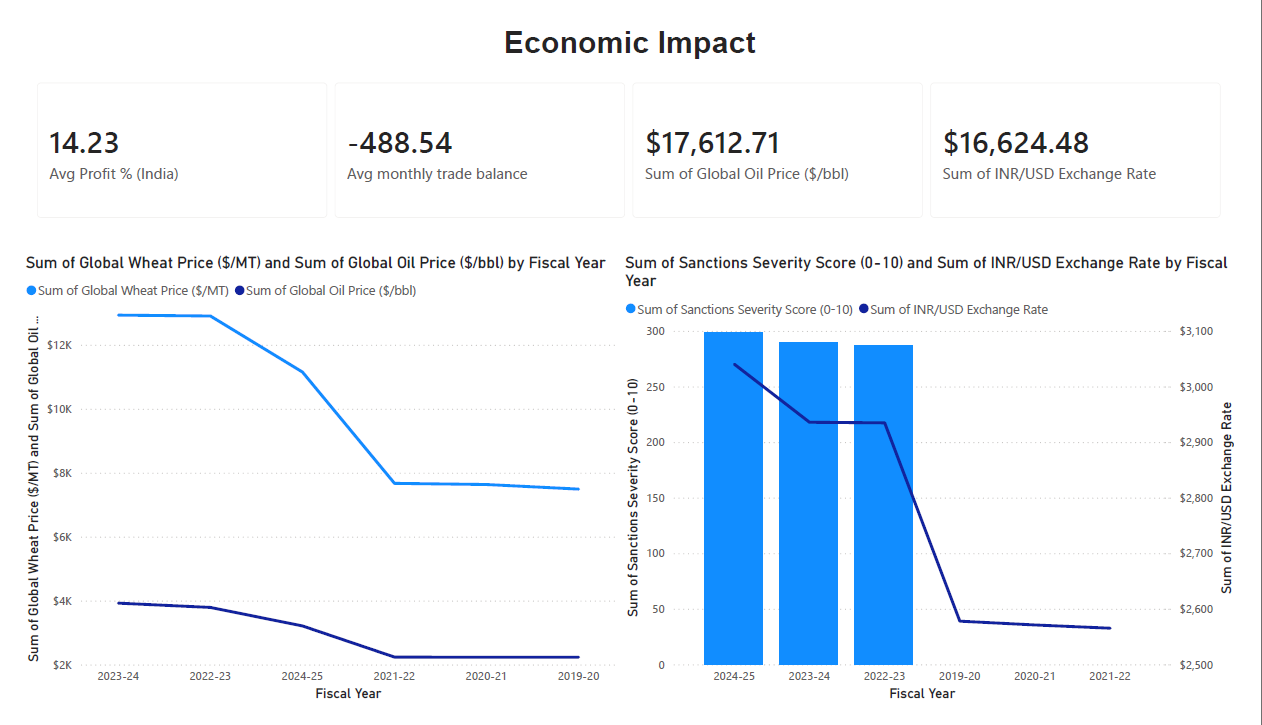

The page's visual inventory and layout, read from the dashboard file:
{"tool":"powerbi","page":{"name":"Economic Impact","canvas":[1280,720],"ordinal":1},"visuals":[{"type":"textbox","box":[0,0,1280.3,47.6],"z":0},{"type":"cardVisual","fields":{"Data":["Trade Dataset.Avg Profit % (India)","Trade Dataset.Avg monthly trade balance","Sum(Trade Dataset.Global Oil Price ($/bbl))","Sum(Trade Dataset.INR/USD Exchange Rate)"]},"box":[0,47.6,1280.3,176.1],"z":1000},{"type":"lineChart","fields":{"Y":["Sum(Trade Dataset.Global Wheat Price ($/MT))","Sum(Trade Dataset.Global Oil Price ($/bbl))"],"Category":["Trade Dataset.Fiscal Year"]},"box":[0,244.2,629.8,475.6],"z":2000},{"type":"lineStackedColumnComboChart","fields":{"Category":["Trade Dataset.Fiscal Year"],"Y":["Sum(Trade Dataset.Sanctions Severity Score (0-10))"],"Y2":["Sum(Trade Dataset.INR/USD Exchange Rate)"]},"box":[630,244,650,476],"z":3000}]}

Visuals, with their boxes in screenshot pixels (x1, y1, x2, y2), scaled from the page's 1280x720 canvas onto the 1262x725 screenshot:
textbox: locate(0, 0, 1261, 48)
cardVisual - Trade Dataset.Avg Profit % (India) x Trade Dataset.Avg monthly trade balance: locate(0, 48, 1261, 225)
lineChart - Sum(Trade Dataset.Global Wheat Price ($/MT)) x Sum(Trade Dataset.Global Oil Price ($/bbl)): locate(0, 246, 621, 724)
lineStackedColumnComboChart - Trade Dataset.Fiscal Year x Sum(Trade Dataset.Sanctions Severity Score (0-10)): locate(621, 246, 1261, 724)
